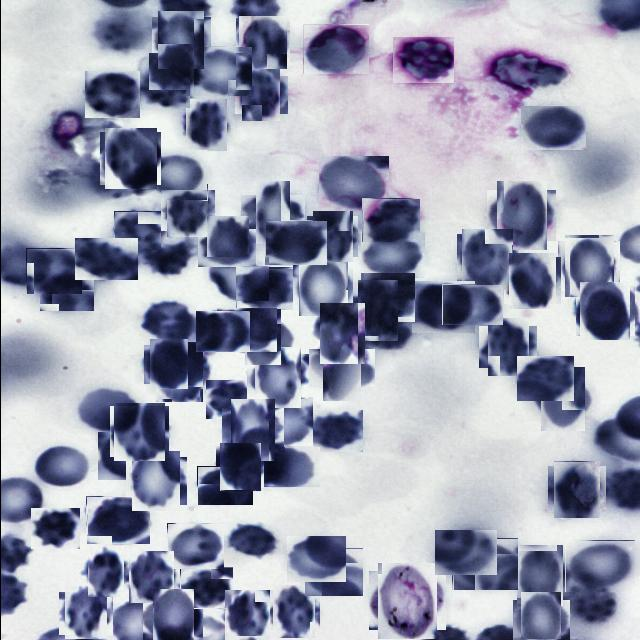red blood cell: (318, 156, 388, 211), (564, 540, 634, 592), (490, 186, 550, 246), (452, 538, 518, 590), (248, 398, 314, 450), (302, 24, 368, 74), (185, 46, 251, 96), (140, 150, 206, 200), (411, 281, 474, 333), (101, 130, 158, 187), (75, 386, 142, 434), (560, 238, 616, 294), (459, 232, 515, 288), (294, 259, 350, 314), (86, 496, 150, 544), (111, 404, 166, 459), (97, 432, 160, 480), (491, 53, 572, 90), (535, 372, 589, 427), (577, 284, 632, 338), (360, 232, 424, 278), (512, 548, 566, 602), (250, 350, 304, 404), (128, 454, 182, 508), (151, 345, 205, 399), (226, 403, 280, 457), (391, 36, 453, 83), (520, 106, 585, 150), (316, 306, 368, 361), (303, 548, 362, 596), (264, 220, 326, 265), (434, 530, 496, 575), (154, 14, 207, 66), (359, 272, 414, 322), (206, 257, 268, 301), (286, 536, 345, 582), (506, 254, 558, 306), (550, 463, 602, 515), (315, 342, 367, 394), (236, 17, 288, 68), (74, 238, 137, 280), (84, 72, 139, 120), (216, 308, 276, 352), (166, 523, 223, 569), (352, 284, 402, 336), (25, 248, 81, 294), (516, 356, 573, 401), (202, 220, 252, 271), (256, 447, 319, 487), (235, 266, 292, 310), (362, 198, 419, 242), (441, 284, 502, 325), (482, 322, 532, 372), (140, 299, 194, 344), (221, 591, 270, 640), (126, 552, 174, 602), (146, 593, 197, 640), (305, 410, 362, 452), (268, 588, 316, 636), (61, 590, 109, 638), (248, 188, 296, 236), (163, 187, 211, 234), (238, 314, 286, 361), (34, 448, 90, 488), (179, 567, 232, 609), (195, 311, 249, 352), (196, 466, 252, 505), (308, 213, 354, 260), (516, 595, 564, 640), (38, 272, 93, 311), (182, 102, 228, 148), (238, 72, 284, 118), (152, 49, 198, 94), (217, 444, 262, 490), (137, 69, 189, 108), (30, 508, 79, 549), (205, 380, 256, 419), (146, 342, 190, 387), (141, 240, 192, 278), (82, 550, 126, 594), (113, 211, 160, 250), (229, 520, 277, 558)
trophozoite: (372, 566, 440, 634)
